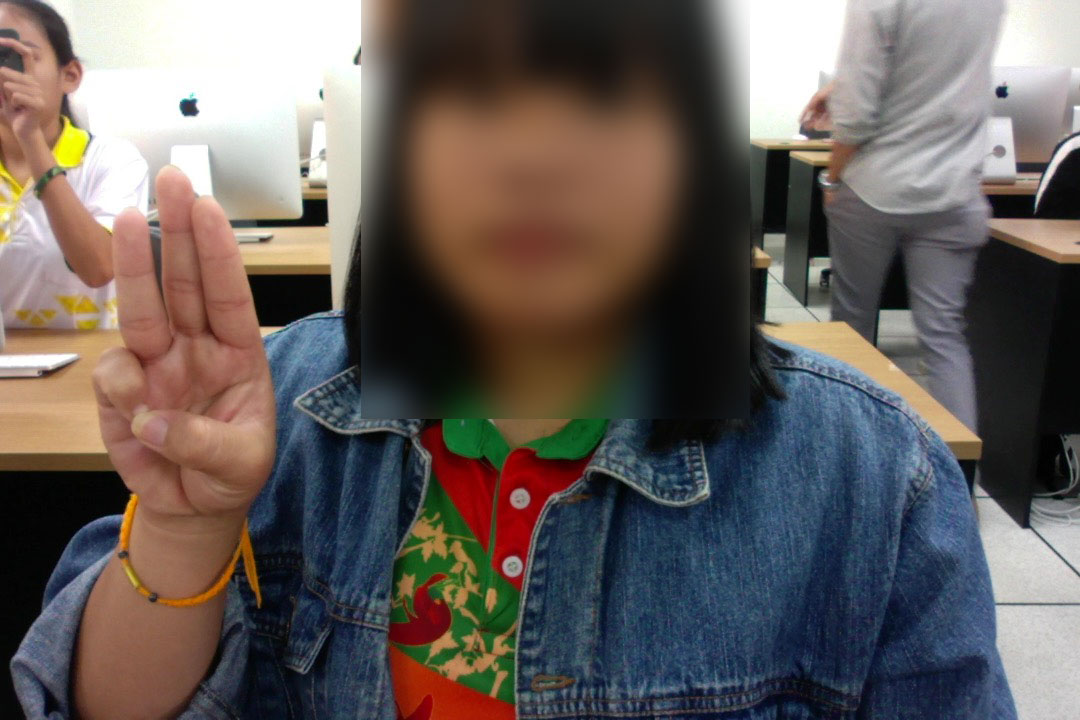wor: (63, 156, 289, 522)
